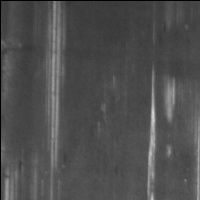scratches: (40, 1, 70, 174), (143, 63, 161, 200)
